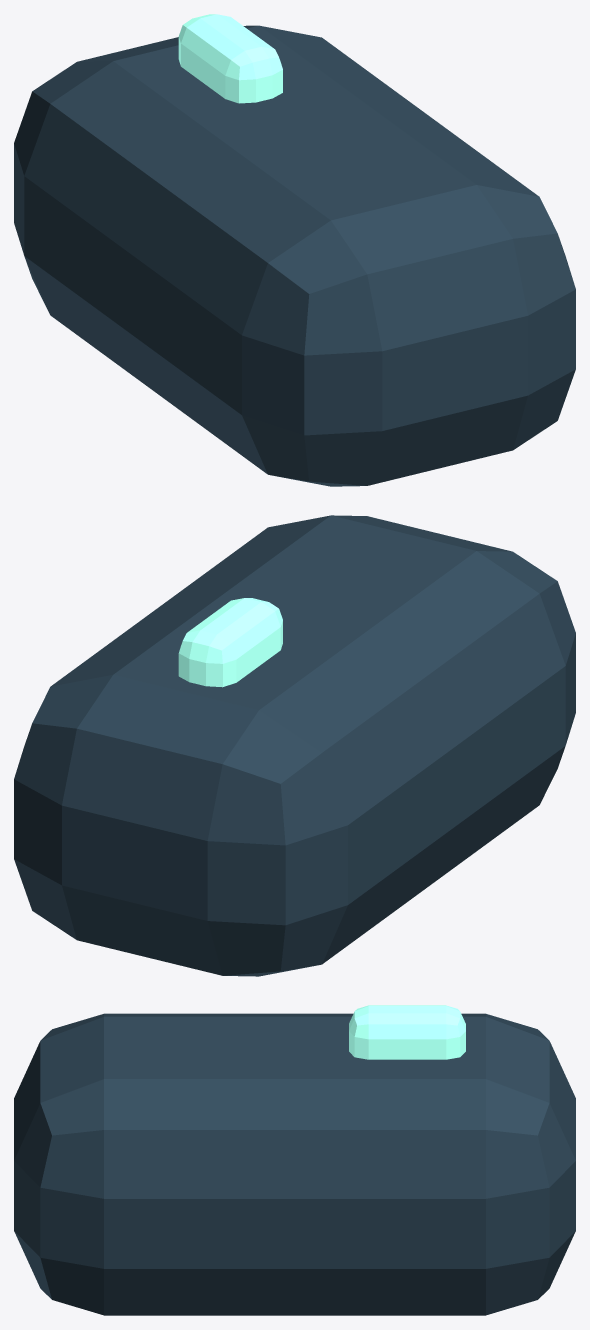
The model's file is mouse.glb.
3 views of the same model, one above another, from view 1: azimuth 30°, elevation 25°; view 2: azimuth 150°, elevation 25°; view 3: azimuth 270°, elevation 25° (orthographic). The views are drawn at different scales.
Parts seen in each view (by area): view 1: mouse_Mesh; view 2: mouse_Mesh; view 3: mouse_Mesh.
Part boxes in pixels (bbox=[...]): mouse_Mesh: bbox=[14, 14, 575, 486]; mouse_Mesh: bbox=[14, 515, 575, 976]; mouse_Mesh: bbox=[14, 1005, 575, 1315].
Bounding box in the file's own units: 0.07 × 0.064 × 0.12.
